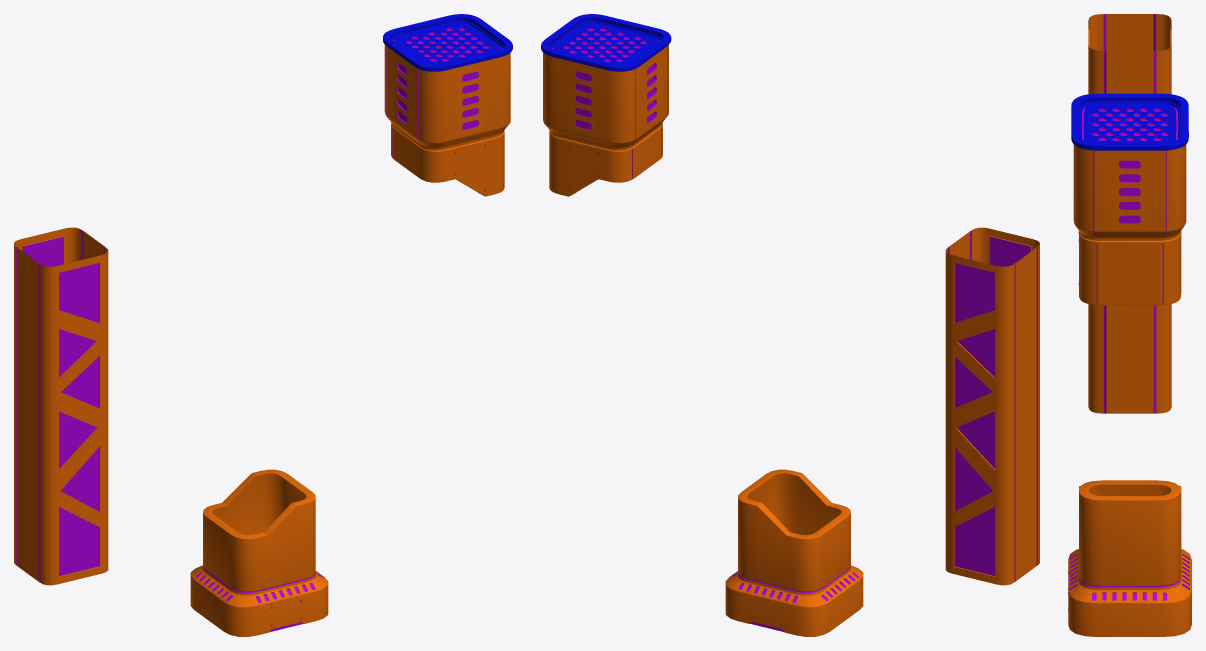
File: Pillar_High.FBX
3 renders of one model, left to right at view 1: azimuth 30°, elevation 25°; view 2: azimuth 150°, elevation 25°; view 3: azimuth 270°, elevation 25°, orthographic. The views are drawn at different scales.
Visible parts, largest first — view 1: Pillar_High_EXP; view 2: Pillar_High_EXP; view 3: Pillar_High_EXP.
Part boxes in pixels (x1=…): Pillar_High_EXP: x1=14, y1=14, x2=512, y2=636; Pillar_High_EXP: x1=541, y1=14, x2=1039, y2=636; Pillar_High_EXP: x1=1068, y1=14, x2=1191, y2=636.
Size of the model in its own units: 122 by 130 by 24.53.
